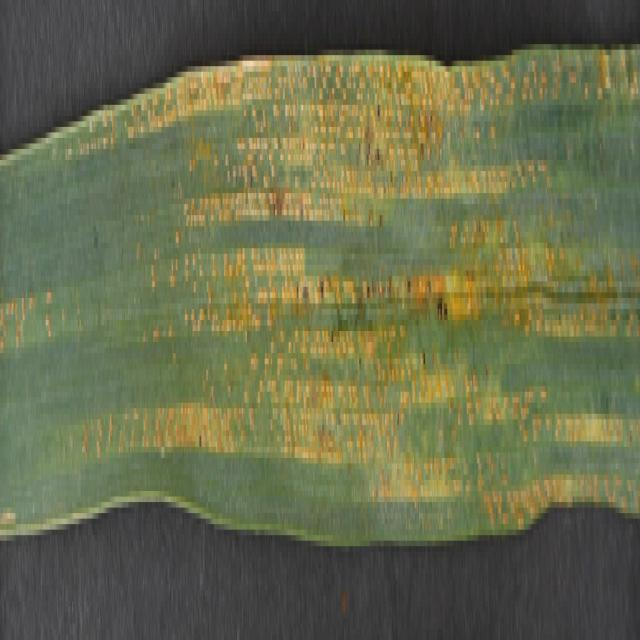leaf rust: (1, 49, 637, 497)
